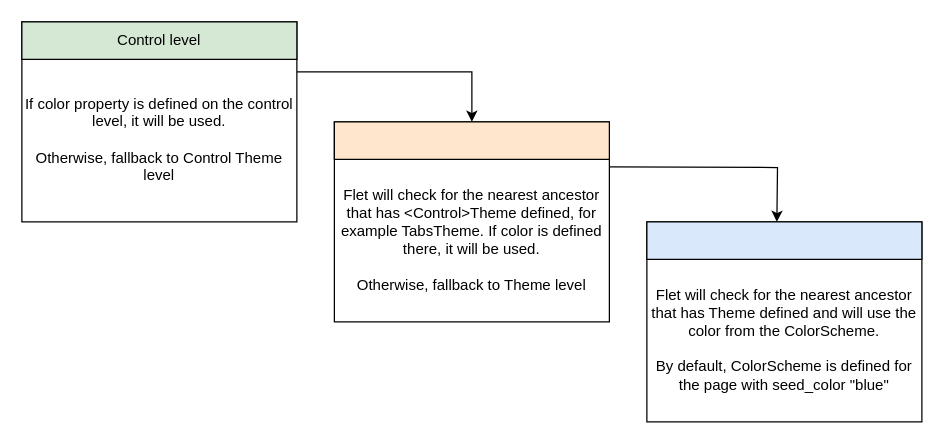
Image size: 944x444. Some labels were removed from this diagram. Here are the shapes that lost their labels. From the top down, the centre of each, then its label:
[471,140]: Control Theme level
[784,240]: Theme level
